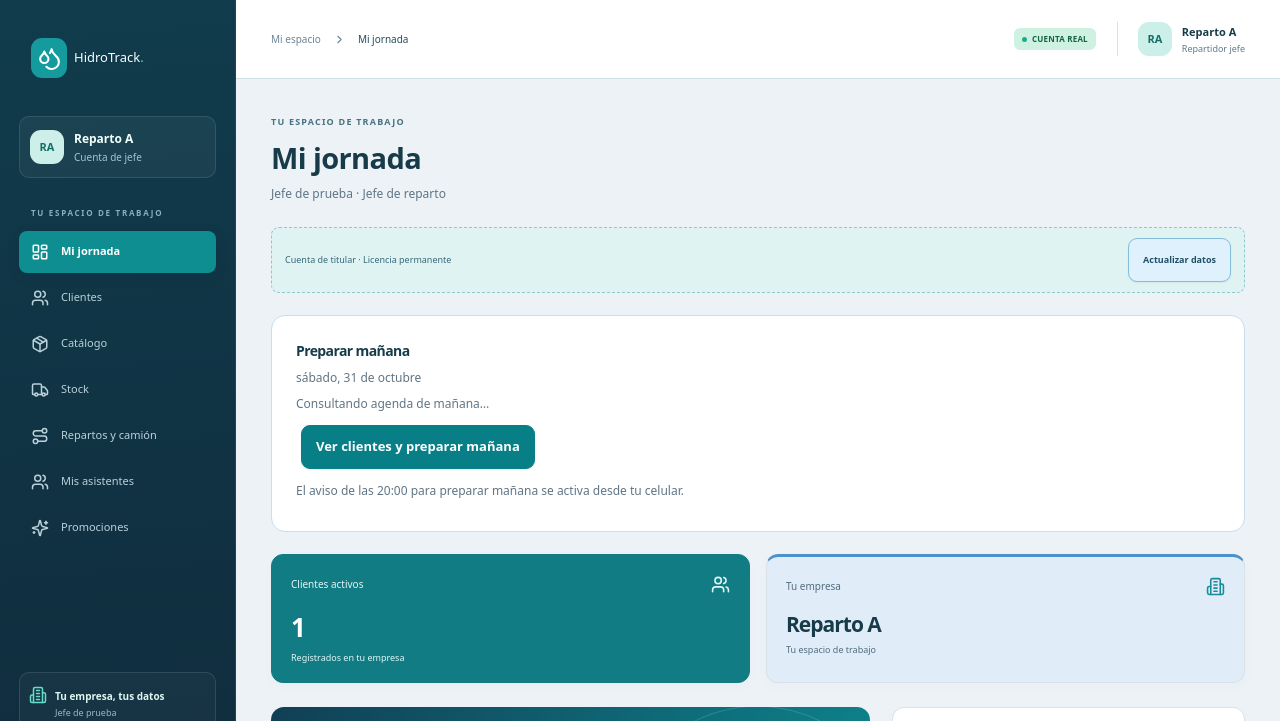
Scenario: panel conectado del titular › bloquea ambos menús ante un movimiento incierto y conserva el ID al reintentar
Click the button "Stock" at point(118, 390), box [19, 368, 216, 410]
(page scrolled)
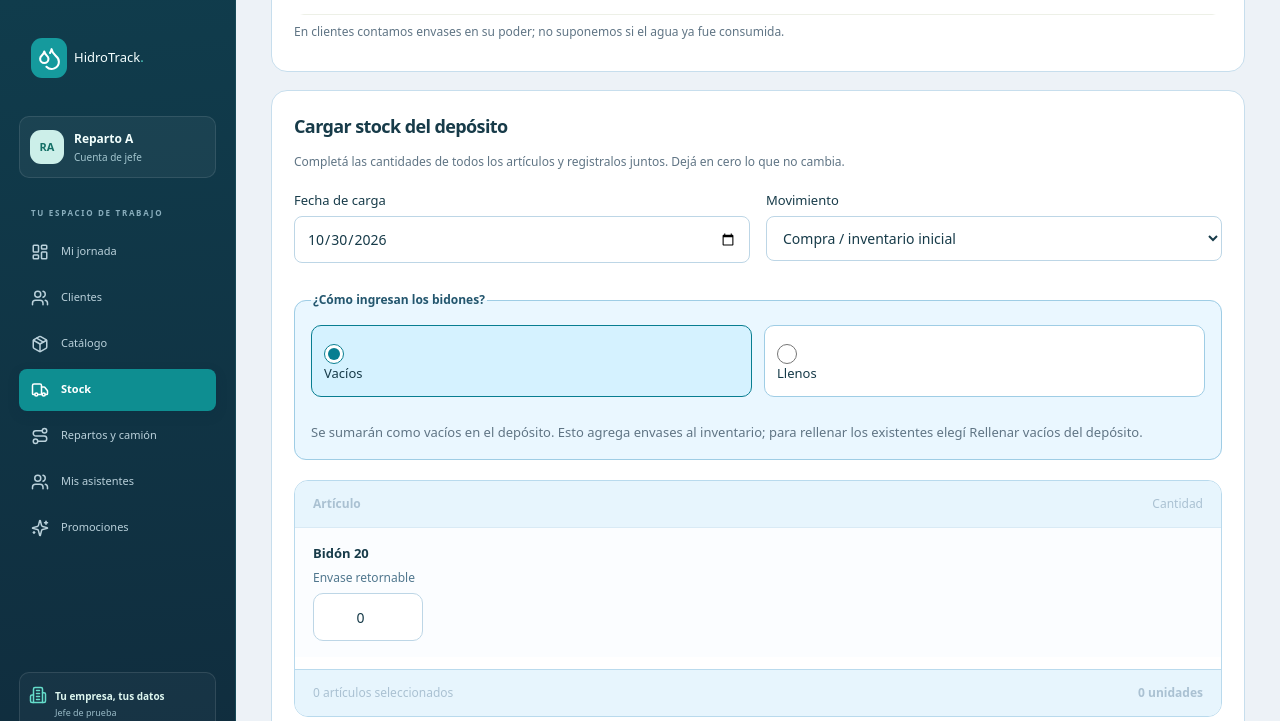
Replace the text in the number field named "Cantidad de Bidón 20" with "2" at point(368, 617), box [313, 593, 423, 641]
(page scrolled)
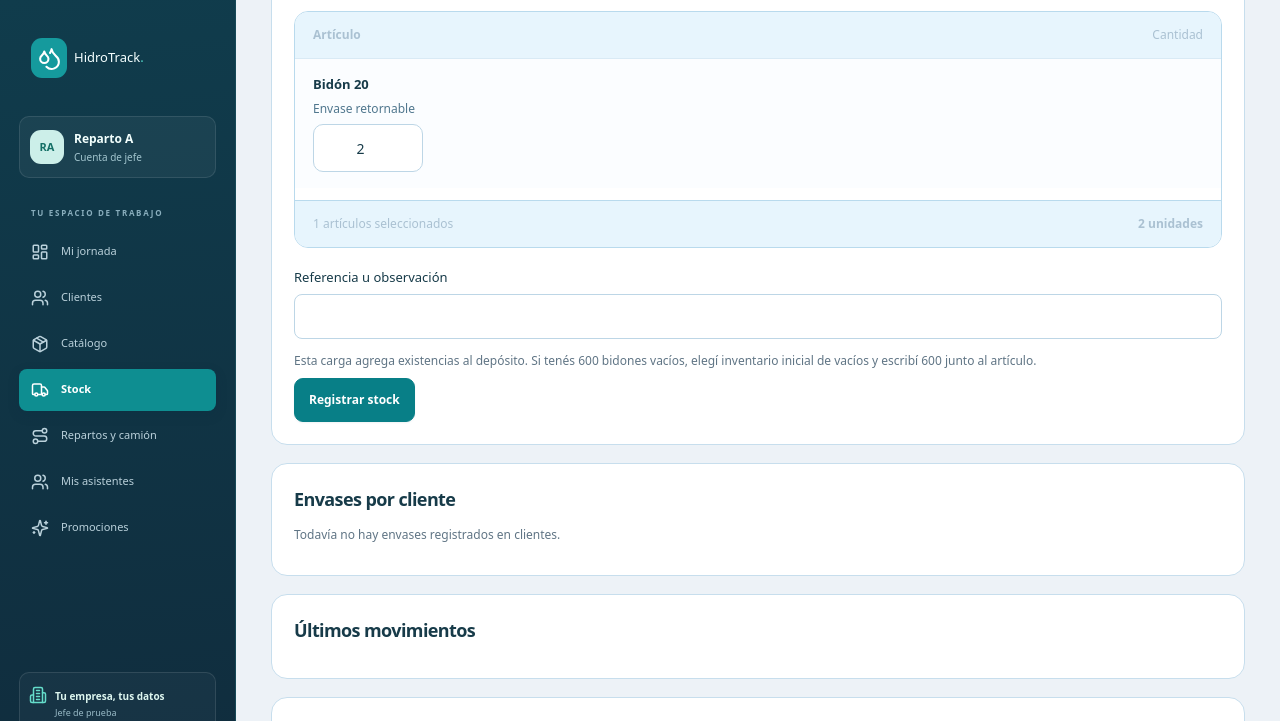
Click the button "Registrar stock" at point(354, 400), box [294, 378, 415, 422]
(page scrolled)
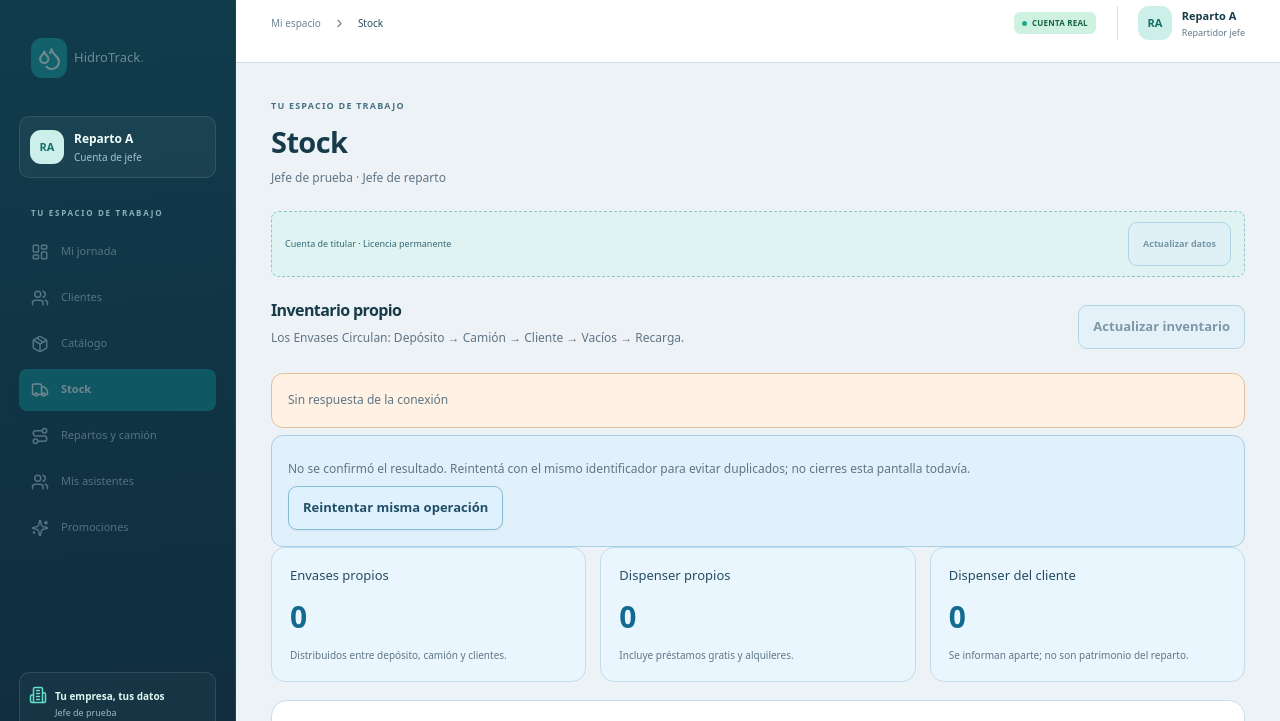
Check: the button "Reintentar misma operación" is shown
Check: the button "Clientes" is disabled, box [19, 276, 216, 318]
Click the button "Reintentar misma operación" at point(396, 508), box [288, 486, 503, 530]
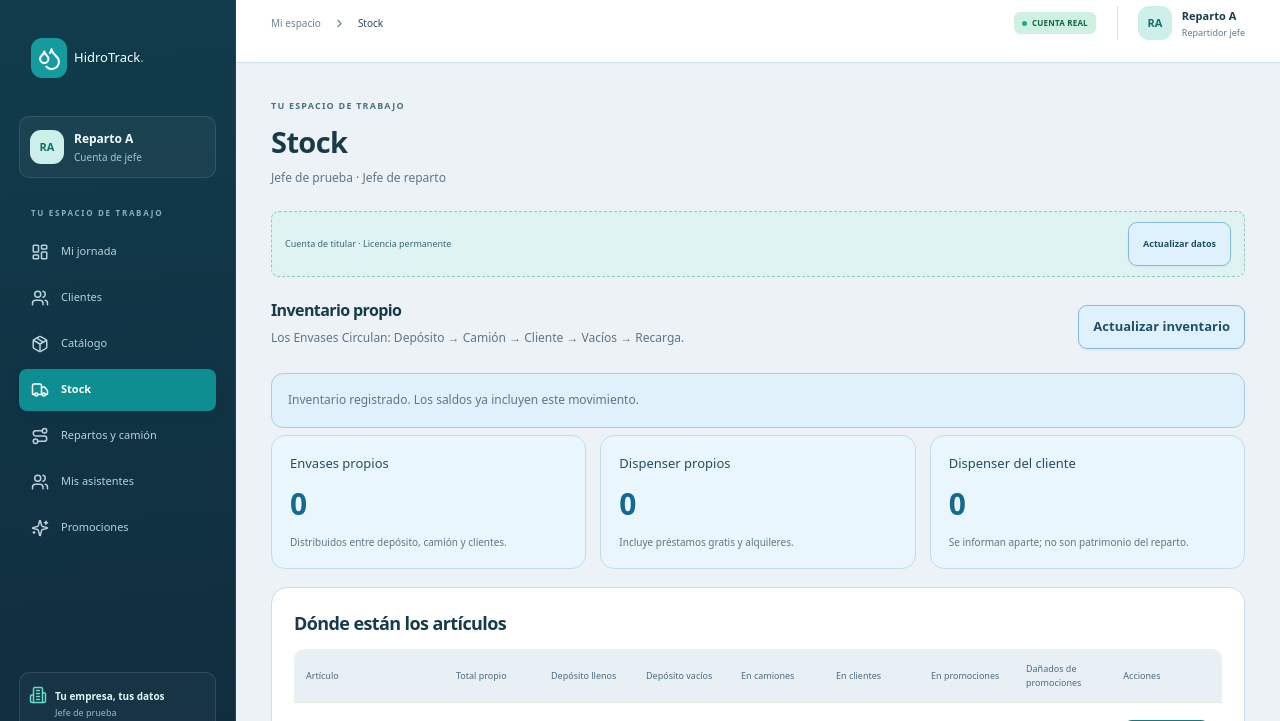
Check: the text "Inventario registrado. Los saldos ya incluyen este movimiento." is shown, box [271, 373, 1245, 428]
Check: the button "Clientes" is enabled, box [19, 276, 216, 318]
